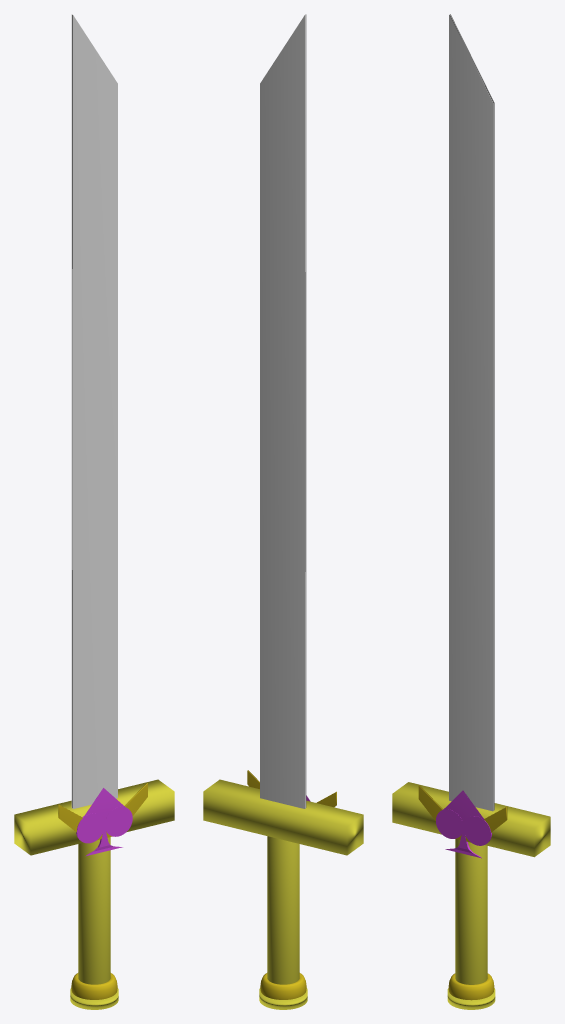
The model's file is Sword_White_1.fbx.
The picture shows the model from 3 angles, left to right: view 1: azimuth 30°, elevation 25°; view 2: azimuth 150°, elevation 25°; view 3: azimuth 330°, elevation 25°; orthographic projection.
Parts seen in each view (by area): view 1: Cube, Cylinder, Cube.001, Torus, Cube.002, Cylinder.004, Cylinder.003, Cube.003, Cylinder.001; view 2: Cube, Cube.001, Cylinder, Torus, Cylinder.001; view 3: Cube, Cylinder, Cube.001, Torus, Cube.002, Cylinder.004, Cylinder.003, Cube.003, Cylinder.001.
Part boxes in pixels (x1,y1,x2,y2): Cube: (71,14,117,808); Cylinder: (78,837,110,984); Cube.001: (14,779,174,855); Torus: (71,973,117,999); Cube.002: (58,783,147,840); Cylinder.004: (76,813,108,843); Cylinder.003: (105,806,132,836); Cube.003: (84,788,125,820); Cylinder.001: (70,988,118,1009); Cube: (260,14,306,808); Cube.001: (203,779,363,855); Cylinder: (267,836,299,984); Torus: (260,973,306,999); Cylinder.001: (259,988,307,1009); Cube: (449,14,494,811); Cylinder: (455,839,487,984); Cube.001: (392,782,550,857); Torus: (448,973,494,1000); Cube.002: (418,785,507,842); Cylinder.004: (436,809,467,838); Cylinder.003: (463,816,491,845); Cube.003: (443,790,483,822); Cylinder.001: (447,988,495,1009).
Bounding box in the file's own units: 136 × 898 × 39.84.
